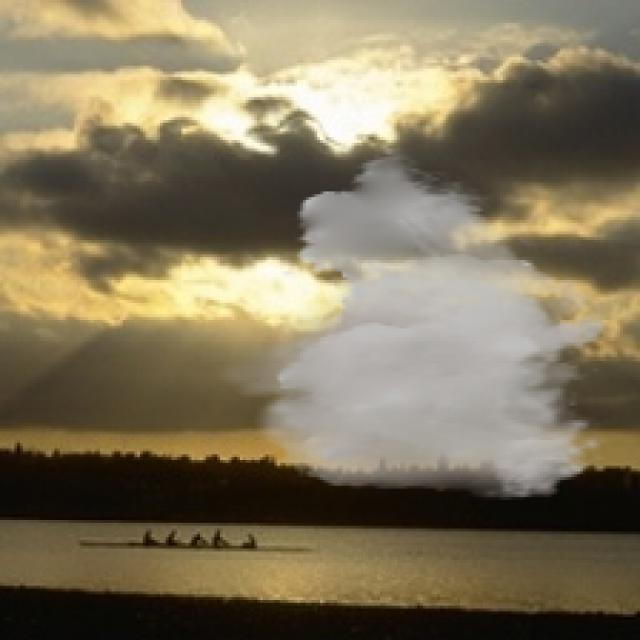Smoke: (212, 145, 608, 500)
